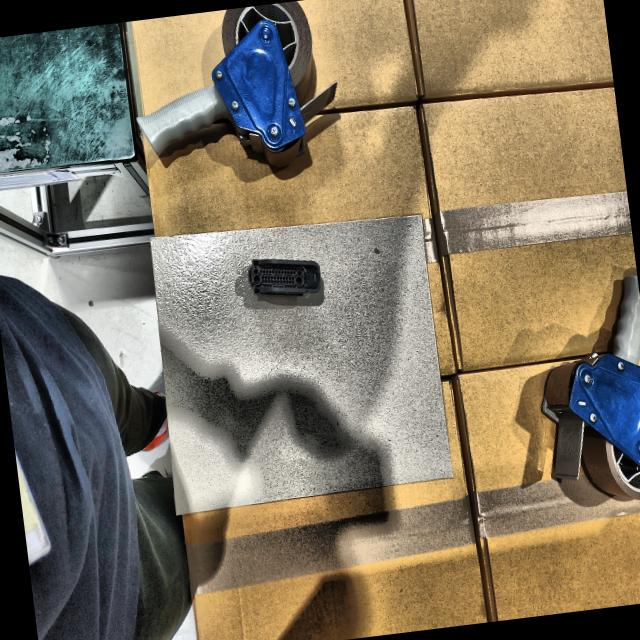P38: (247, 259, 320, 296)
